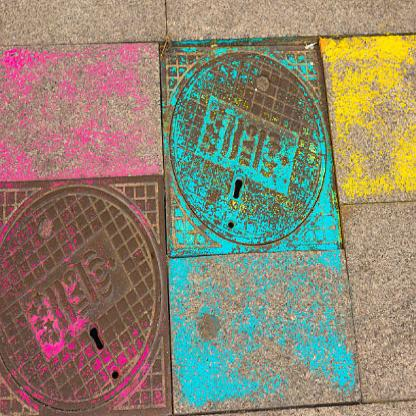manholes: (158, 35, 363, 268), (1, 178, 165, 416)
